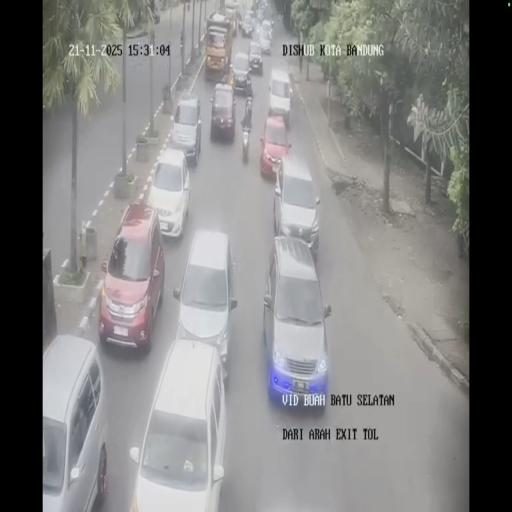car: (127, 340, 227, 509), (148, 150, 191, 240), (170, 96, 202, 164), (209, 80, 237, 142), (267, 67, 294, 125), (230, 50, 251, 91), (248, 39, 262, 73), (258, 25, 272, 54), (240, 14, 254, 38), (256, 6, 264, 22)
motorcycle: (241, 126, 251, 162)
truck: (223, 1, 240, 33)
